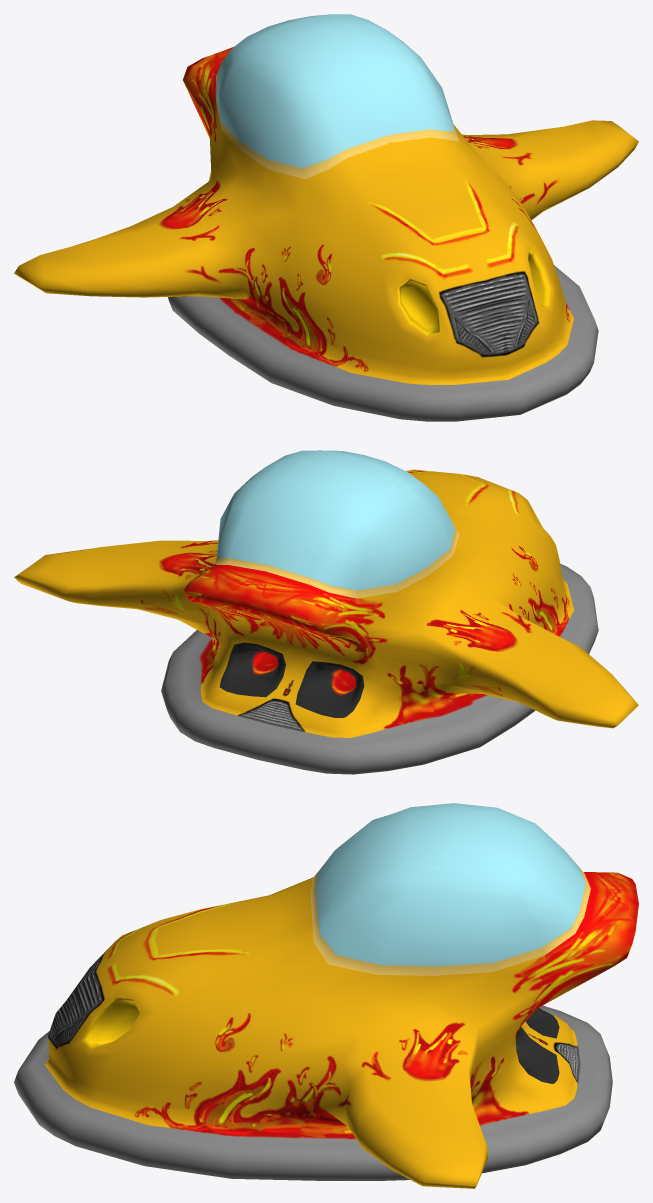
Rendered from car.fbx.
3 views of the same model, one above another, from view 1: azimuth 30°, elevation 25°; view 2: azimuth 150°, elevation 25°; view 3: azimuth 270°, elevation 25° (orthographic). The views are drawn at different scales.
Visible parts, largest first — view 1: pCube2; view 2: pCube2; view 3: pCube2.
Boxes of the visible parts, <box> form: pCube2: <box>14,14,638,421</box>; pCube2: <box>14,450,638,774</box>; pCube2: <box>14,803,638,1188</box>.
Size of the model in its own units: 16.32 by 6.4 by 13.
